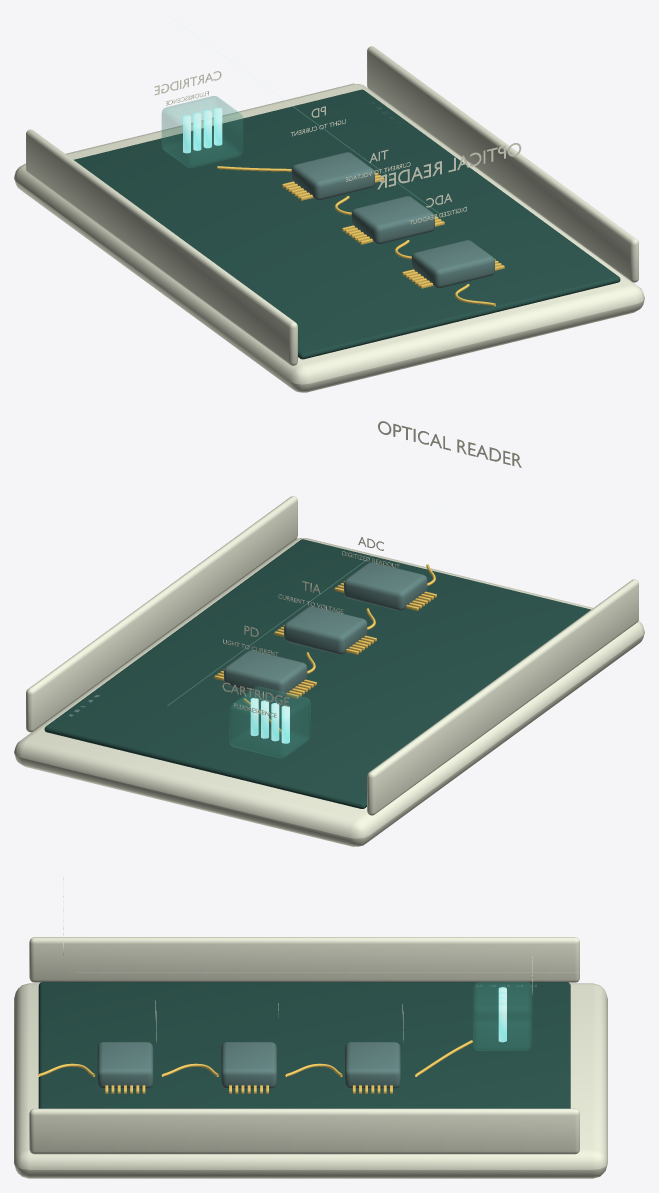
File: aerosense_04_hardware_v4.glb
The picture shows the model from 3 angles, top to bottom: view 1: azimuth 30°, elevation 25°; view 2: azimuth 150°, elevation 25°; view 3: azimuth 270°, elevation 25°; orthographic projection. The views are drawn at different scales.
Parts seen in each view (by area): view 1: Reader_deck, Reader_shell, Reader_side_wall, Reader_side_wall.001, CARTRIDGE, ADC, PD, TIA, Reader_heading; view 2: Reader_deck, Reader_shell, Reader_side_wall.001, Reader_side_wall, CARTRIDGE, TIA, ADC, PD, Reader_heading; view 3: Reader_deck, Reader_side_wall.001, Reader_side_wall, Reader_shell, CARTRIDGE, ADC, PD, TIA.
Part boxes in pixels (x1,y1,x2,y2): Reader_deck: (74, 89, 620, 359); Reader_shell: (14, 83, 644, 392); Reader_side_wall: (26, 129, 297, 365); Reader_side_wall.001: (367, 46, 638, 282); CARTRIDGE: (162, 96, 242, 167); ADC: (411, 240, 494, 288); PD: (291, 152, 374, 200); TIA: (351, 196, 434, 244); Reader_heading: (377, 143, 521, 189); Reader_deck: (44, 539, 590, 808); Reader_shell: (14, 538, 644, 846); Reader_side_wall.001: (26, 496, 297, 732); Reader_side_wall: (367, 579, 638, 815); CARTRIDGE: (229, 686, 310, 758); TIA: (284, 606, 367, 654); ADC: (344, 562, 427, 610); PD: (224, 650, 307, 698); Reader_heading: (378, 421, 521, 467); Reader_deck: (38, 982, 570, 1108); Reader_side_wall.001: (29, 1108, 579, 1154); Reader_side_wall: (29, 937, 579, 982); Reader_shell: (14, 983, 607, 1178); CARTRIDGE: (473, 982, 531, 1050); ADC: (97, 1042, 153, 1088); PD: (345, 1042, 400, 1088); TIA: (221, 1042, 276, 1088).
Size of the model in its own units: 6.8 by 3.32 by 10.2.
